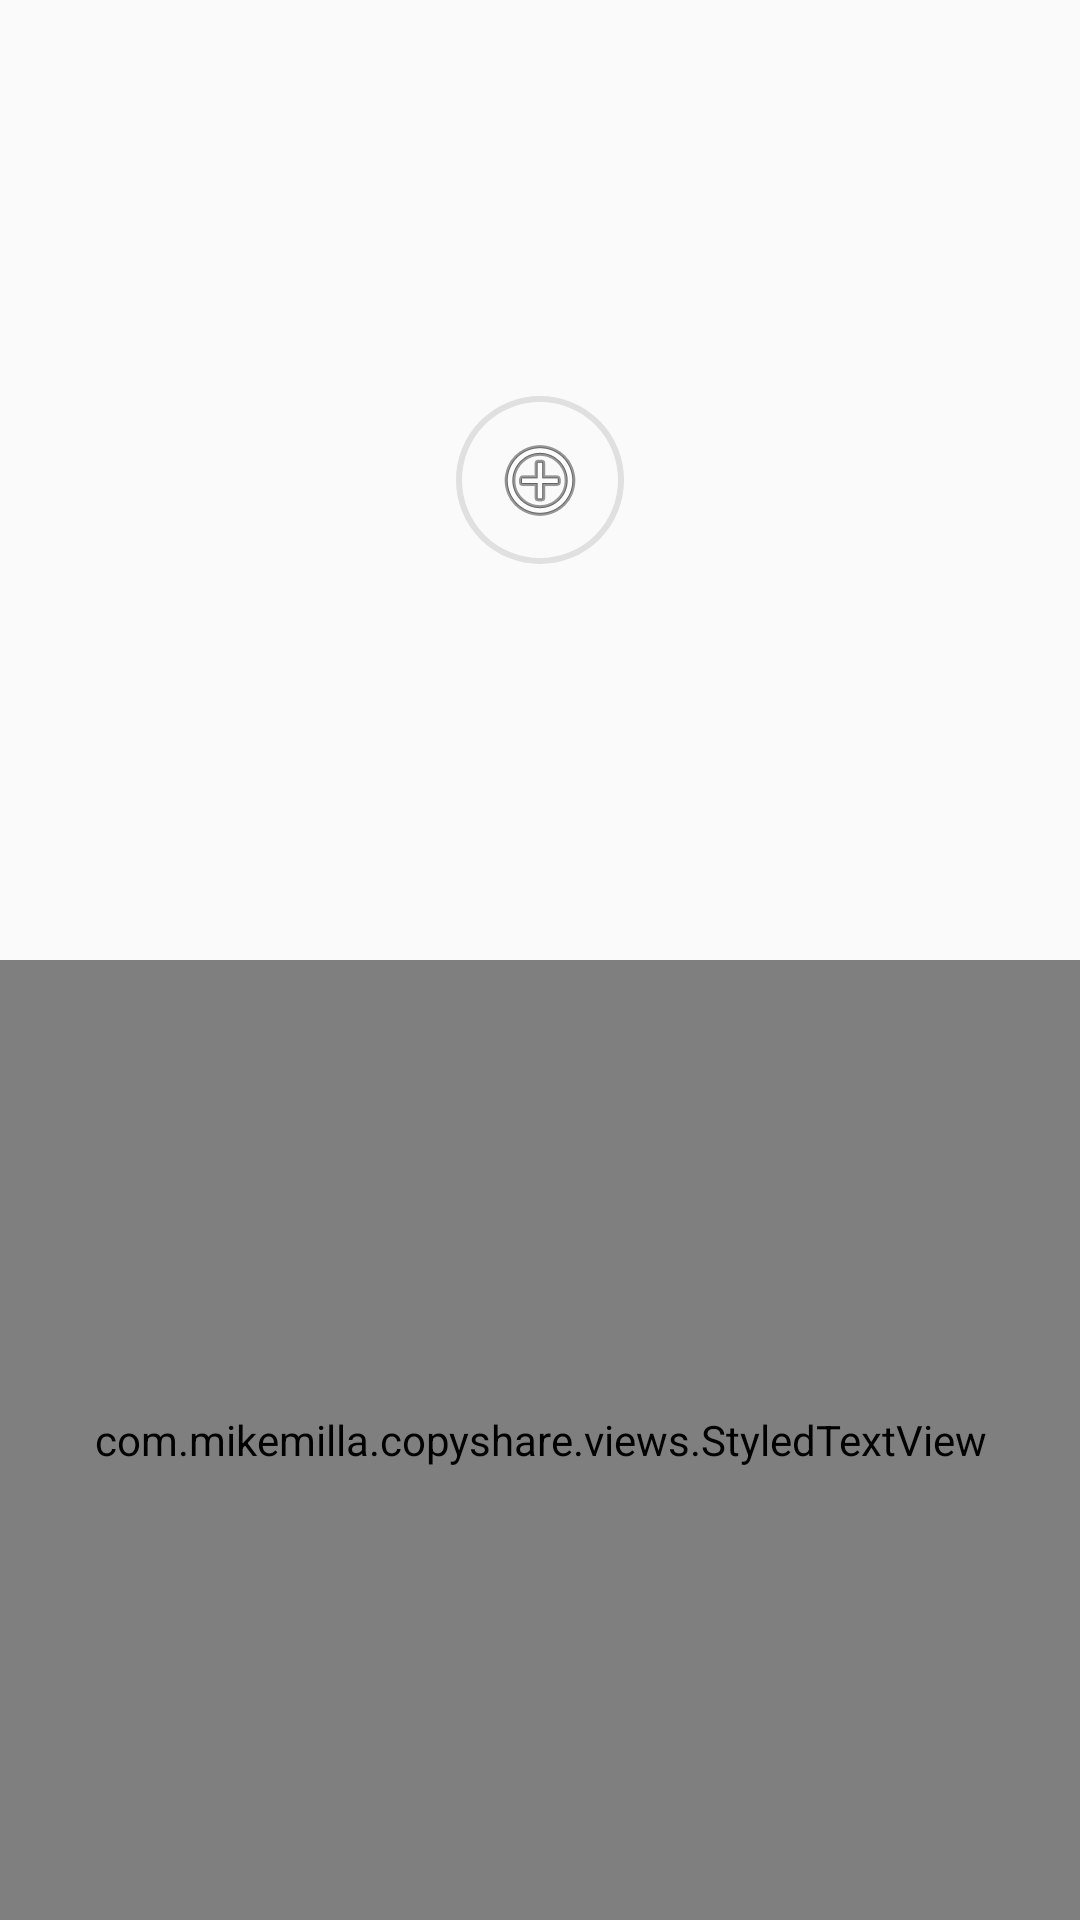

Where to tap for icons on this 1080px×1920px app screen, as (x,y):
add: (540,480)
